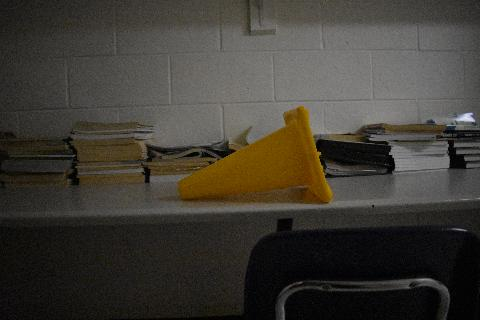cone: (178, 108, 334, 204)
